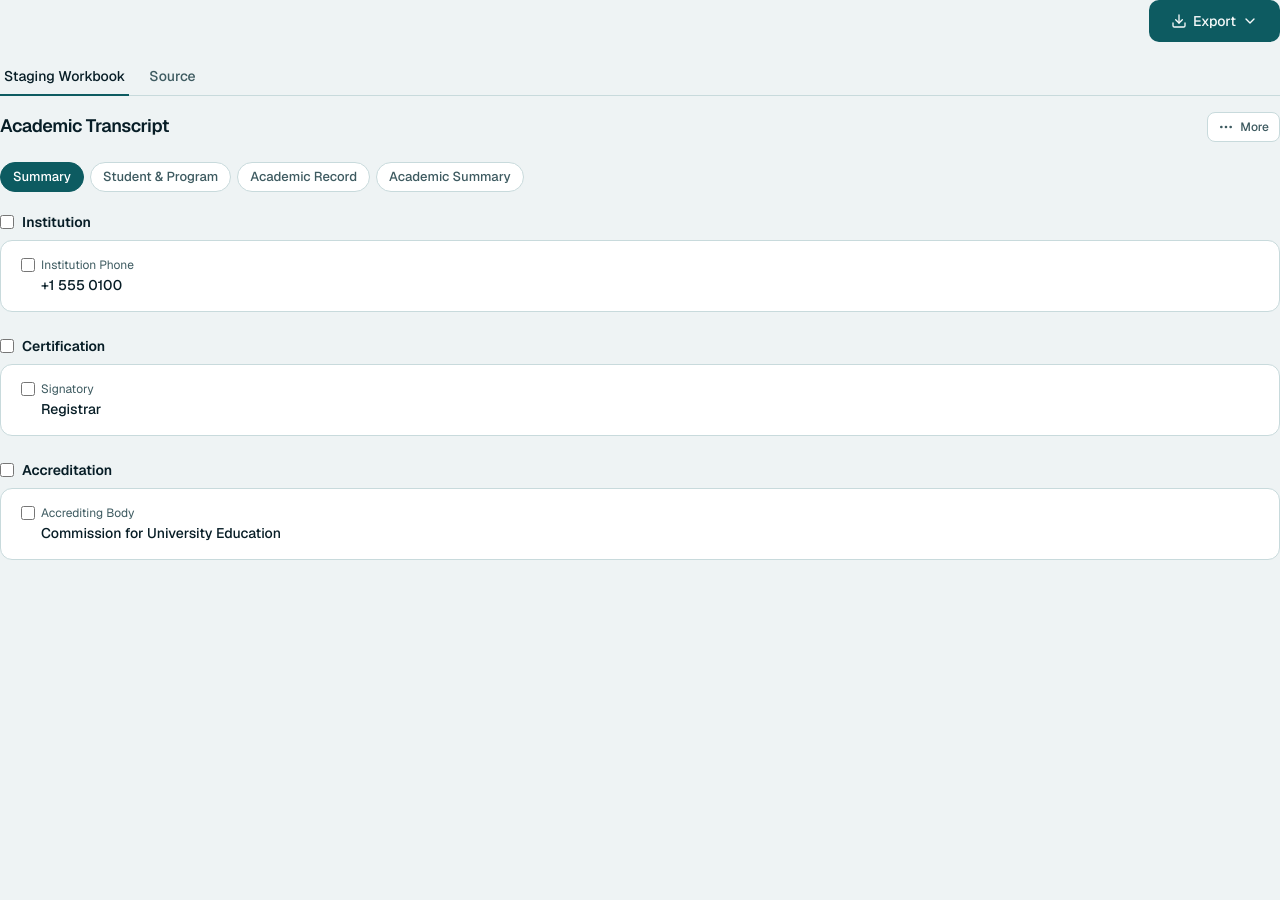
Test: Academic transcript presentation › opens a value's evidence with humanized technical details
Step 1. Click the tab "Student & Program" → (161, 177), box [90,162,231,192]
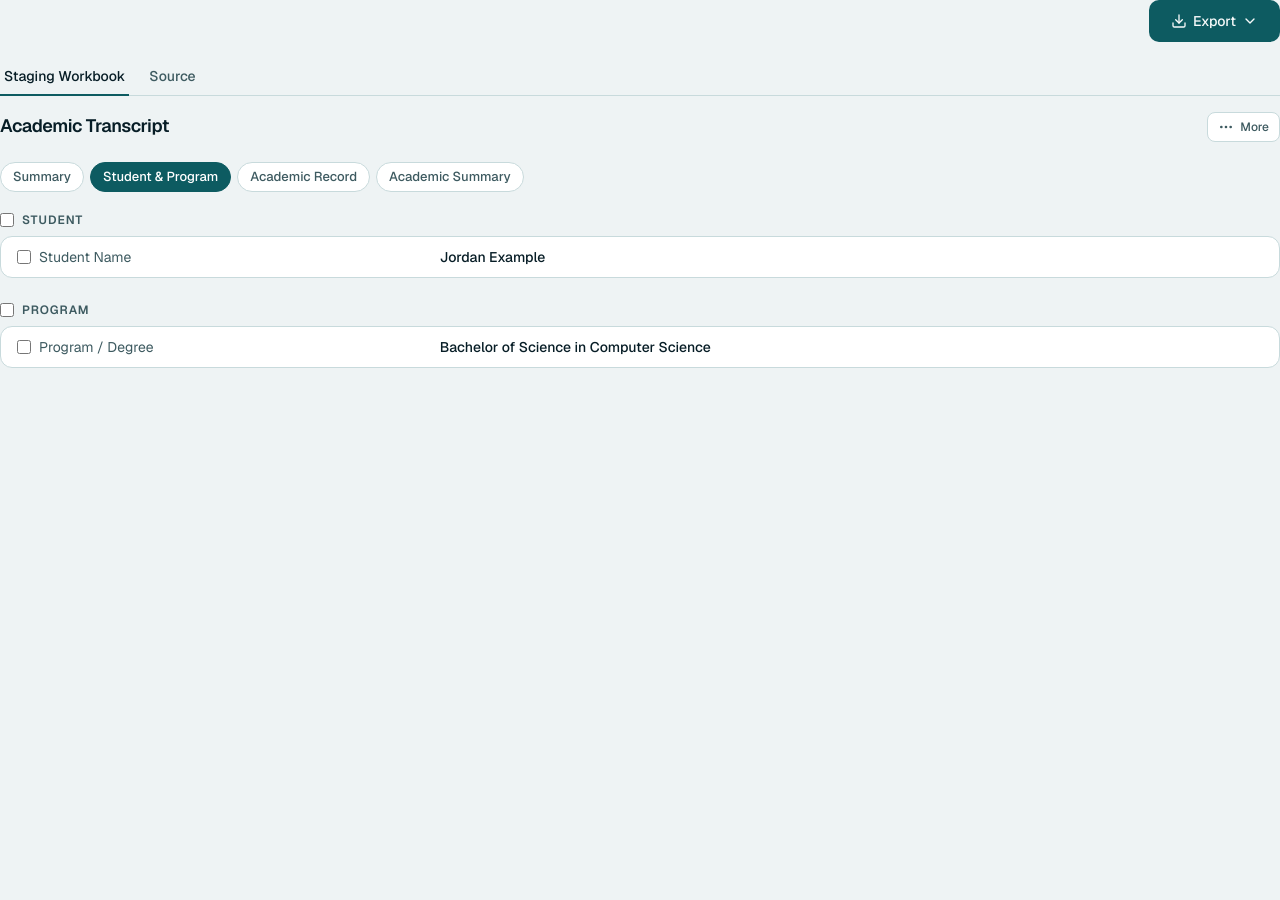
Step 2. Click the button "Jordan Example" → (503, 256), box [436,246,569,266]
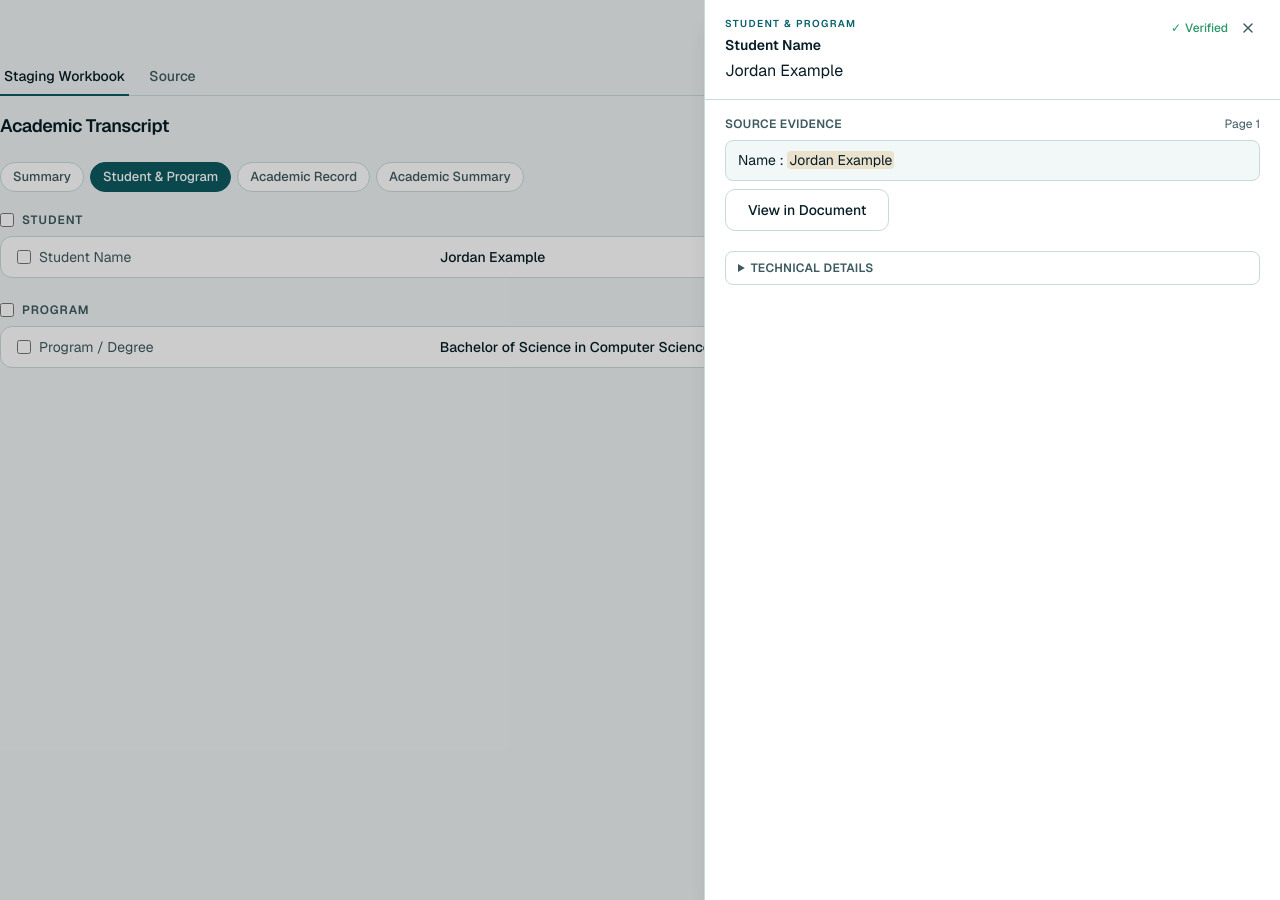
Expected: the dialog "Evidence" shows "Source Evidence", [725,116,842,132]
Expected: the dialog "Evidence" shows "Page 1", [1225,116,1260,132]
Expected: the dialog "Evidence" shows "Name : Jordan Example"
